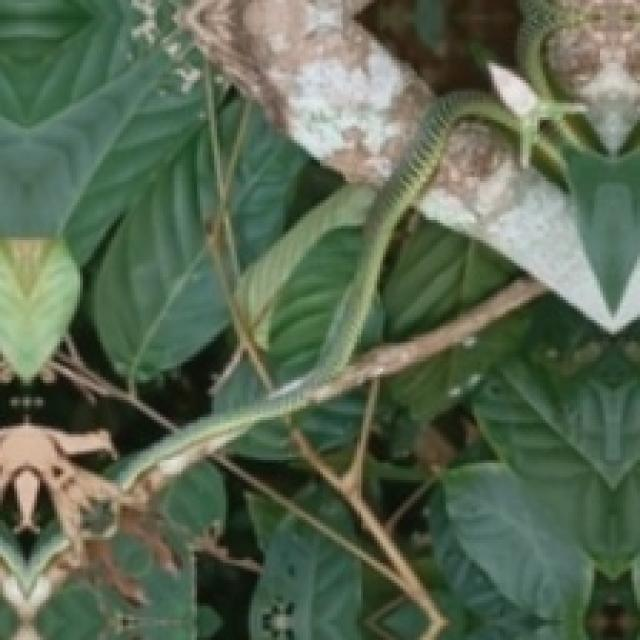paradise tree snake: (120, 12, 609, 491), (0, 531, 82, 629)
